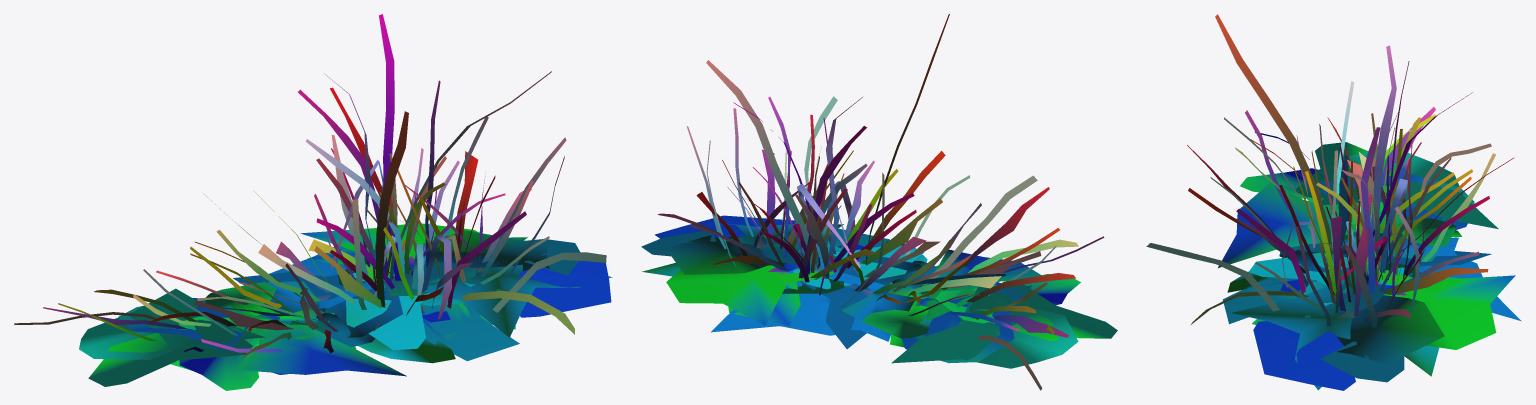
The model's file is Wild_Grass_vdilbaiia_Mid_vdilbaiia_VarL_LOD1.fbx.
The picture shows the model from 3 angles, left to right: view 1: azimuth 30°, elevation 25°; view 2: azimuth 150°, elevation 25°; view 3: azimuth 270°, elevation 25°; orthographic projection. The views are drawn at different scales.
Parts seen in each view (by area): view 1: _tara_VarL_LOD2; view 2: _tara_VarL_LOD2; view 3: _tara_VarL_LOD2.
Boxes of the visible parts, x1,y1,x2,y2 form: _tara_VarL_LOD2: (14, 14, 612, 390); _tara_VarL_LOD2: (641, 14, 1117, 390); _tara_VarL_LOD2: (1146, 14, 1521, 390).
Bounding box in the file's own units: 129 × 64.13 × 85.25.
